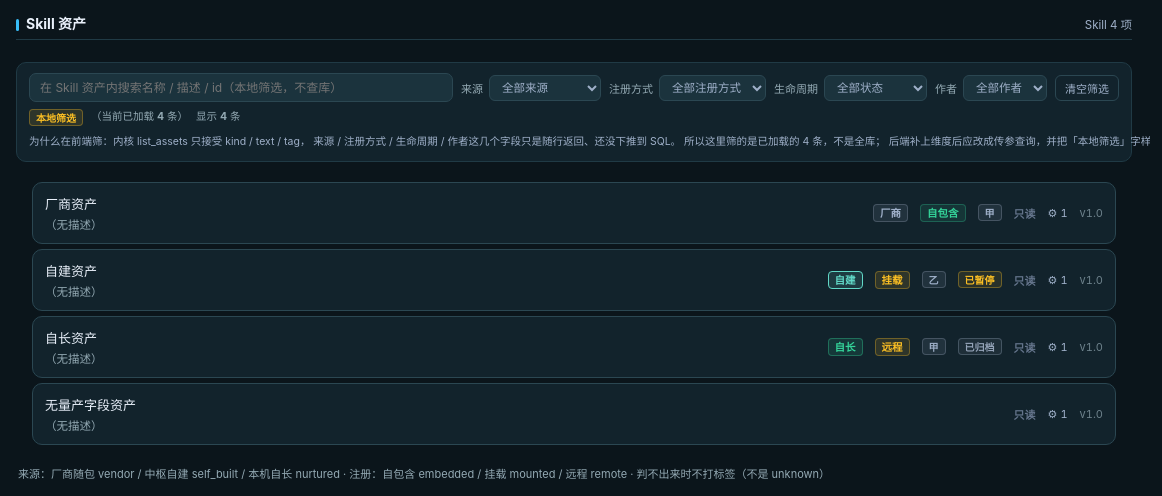
Test case: AssetKindPanel · 本地筛选（来源 / 注册方式 / 生命周期 / 作者） › 本地筛选无匹配时明说「只在这 N 条里找」，不让人以为库里没有
Check: the text "厂商资产" is shown, box [45,196,97,212]
Select "中枢自建（1）" in the dropdown labelled "来源" at (545, 88), box [489,74,601,100]
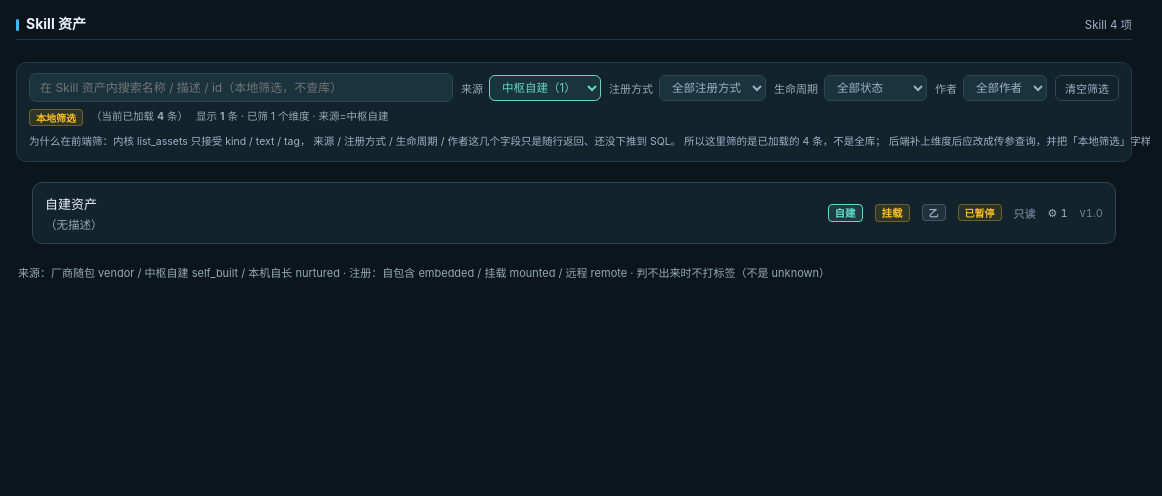
Type "绝对不存在的关键词" into the field with class "kind-search" at (241, 88), box [29,73,453,102]
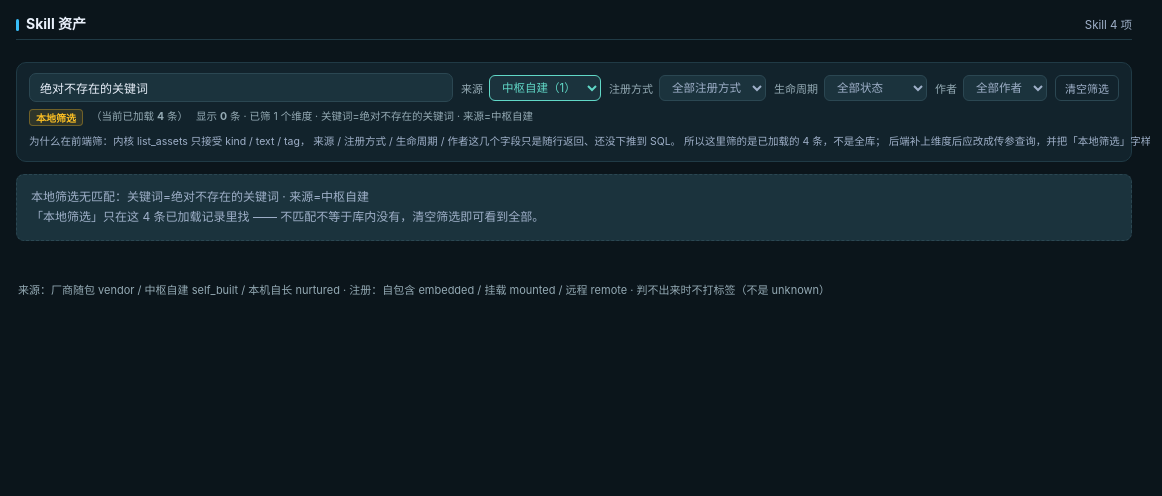
Check: the element with class "empty" shows "本地筛选无匹配", box [31,189,127,204]
Check: the element with class "empty" shows "不匹配不等于库内没有", box [150,209,544,224]
